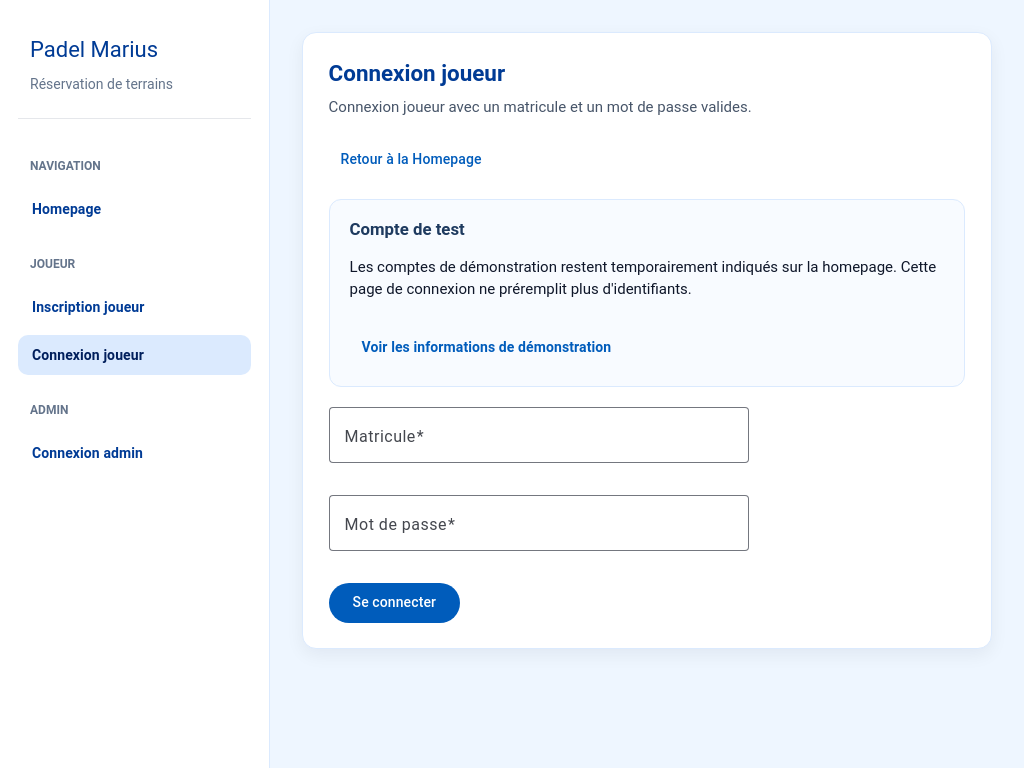
Test: Happy flows MVP Padel Marius › connecte un joueur puis consulte son solde
This screenshot has width=1024, height=768.
Expected: the heading "Connexion joueur" is shown, 329,60 -> 505,86
Type "G1001" into the field named "matricule". click: (539, 435)
box: 345,423 -> 733,447
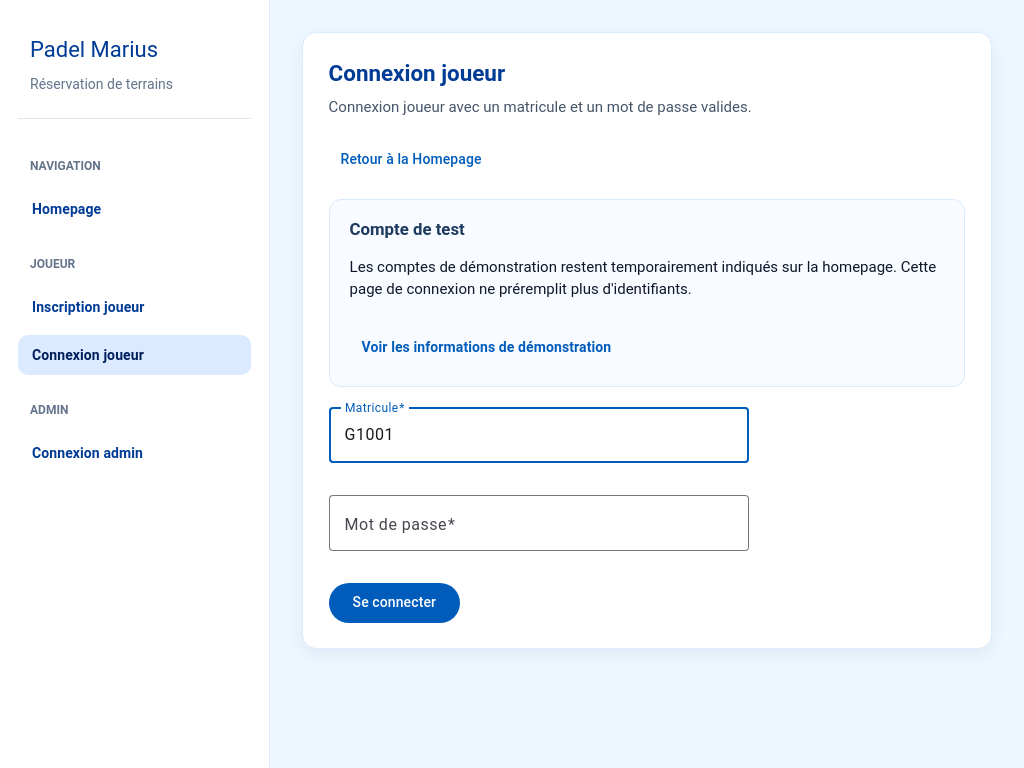
Type "password" into the password field named "motDePasse". click: (539, 523)
box: 345,511 -> 733,535
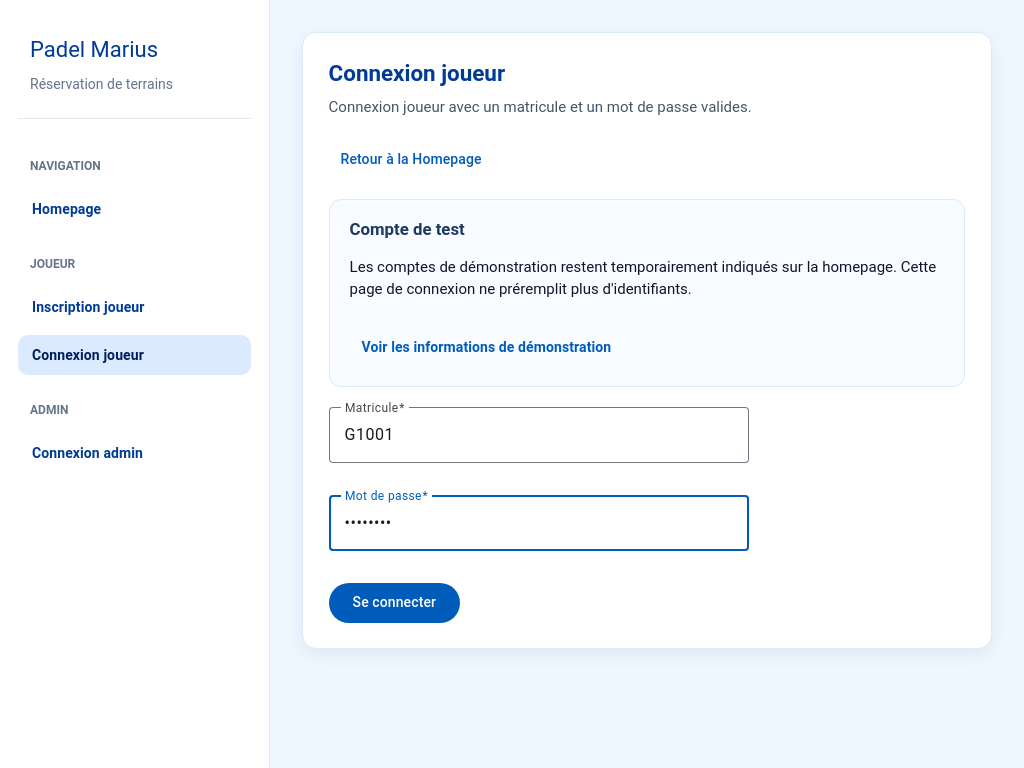
Click the button "Se connecter". click: (395, 603)
box: 329,583 -> 460,623
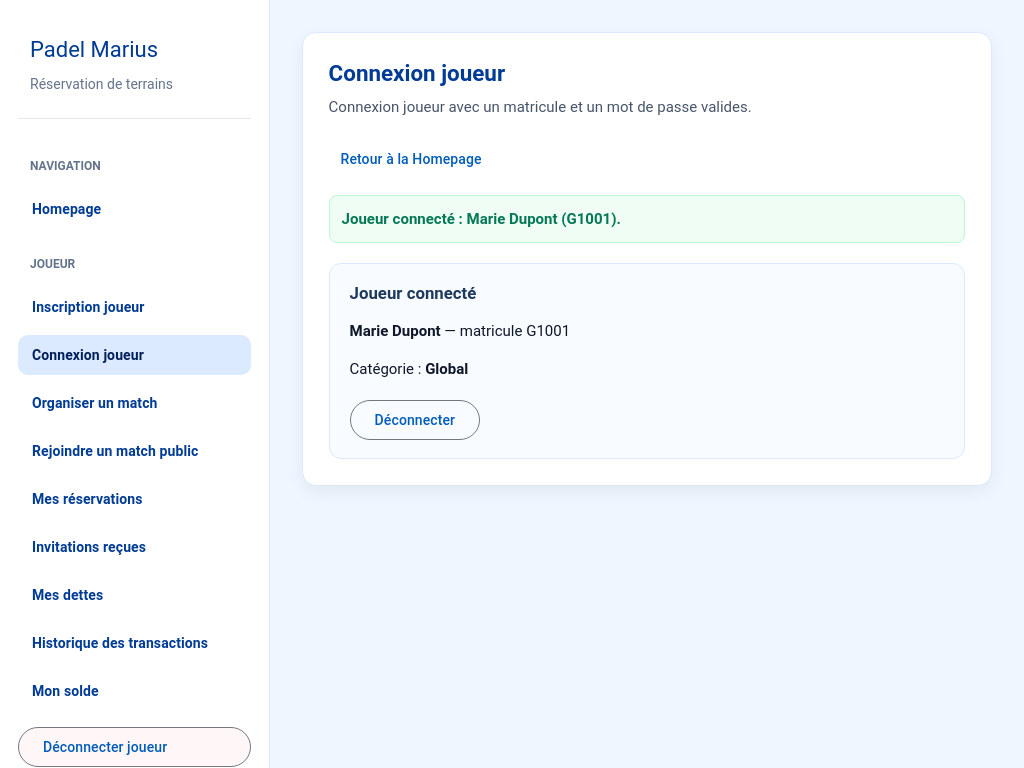
Result: the text "Joueur connecté : Marie Dupont (G1001)." is shown at 329,195 -> 965,244
Result: the link "Mon solde" is shown at 18,671 -> 251,711
Open "/joueur/mon-solde"
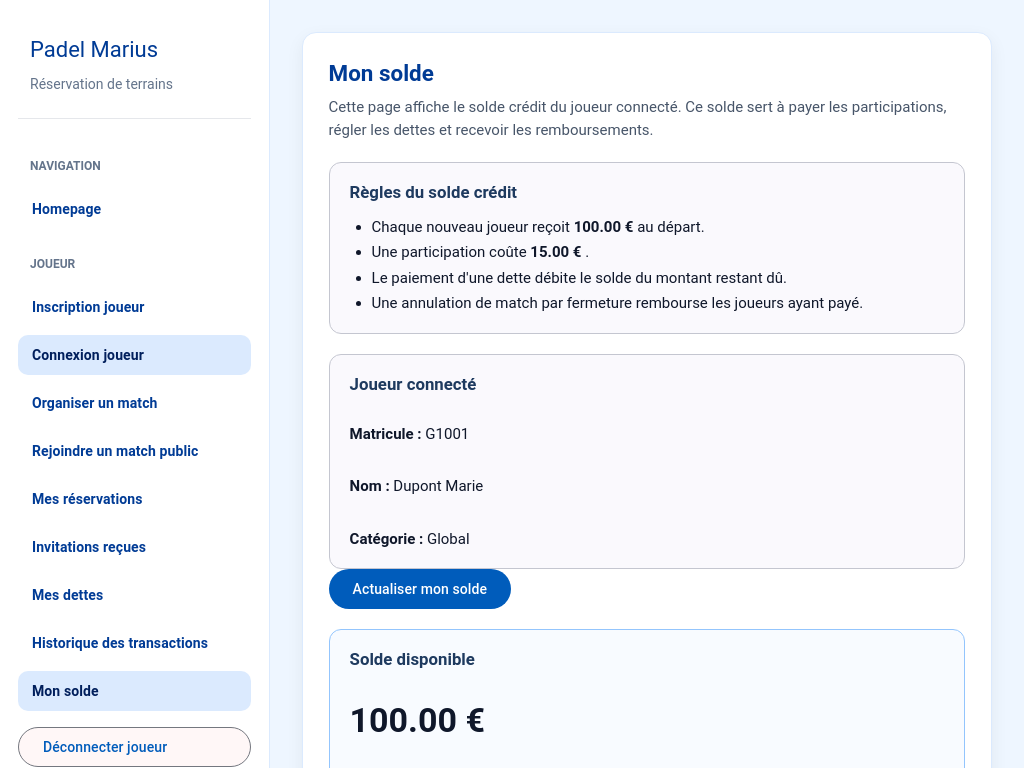
Result: the heading "Mon solde" is shown at 329,60 -> 434,86
Result: the heading "Solde disponible" is shown at 350,649 -> 475,669
Result: the text "100.00 €" next to "Chaque nouveau joueur reçoit" is shown at 574,218 -> 637,236
